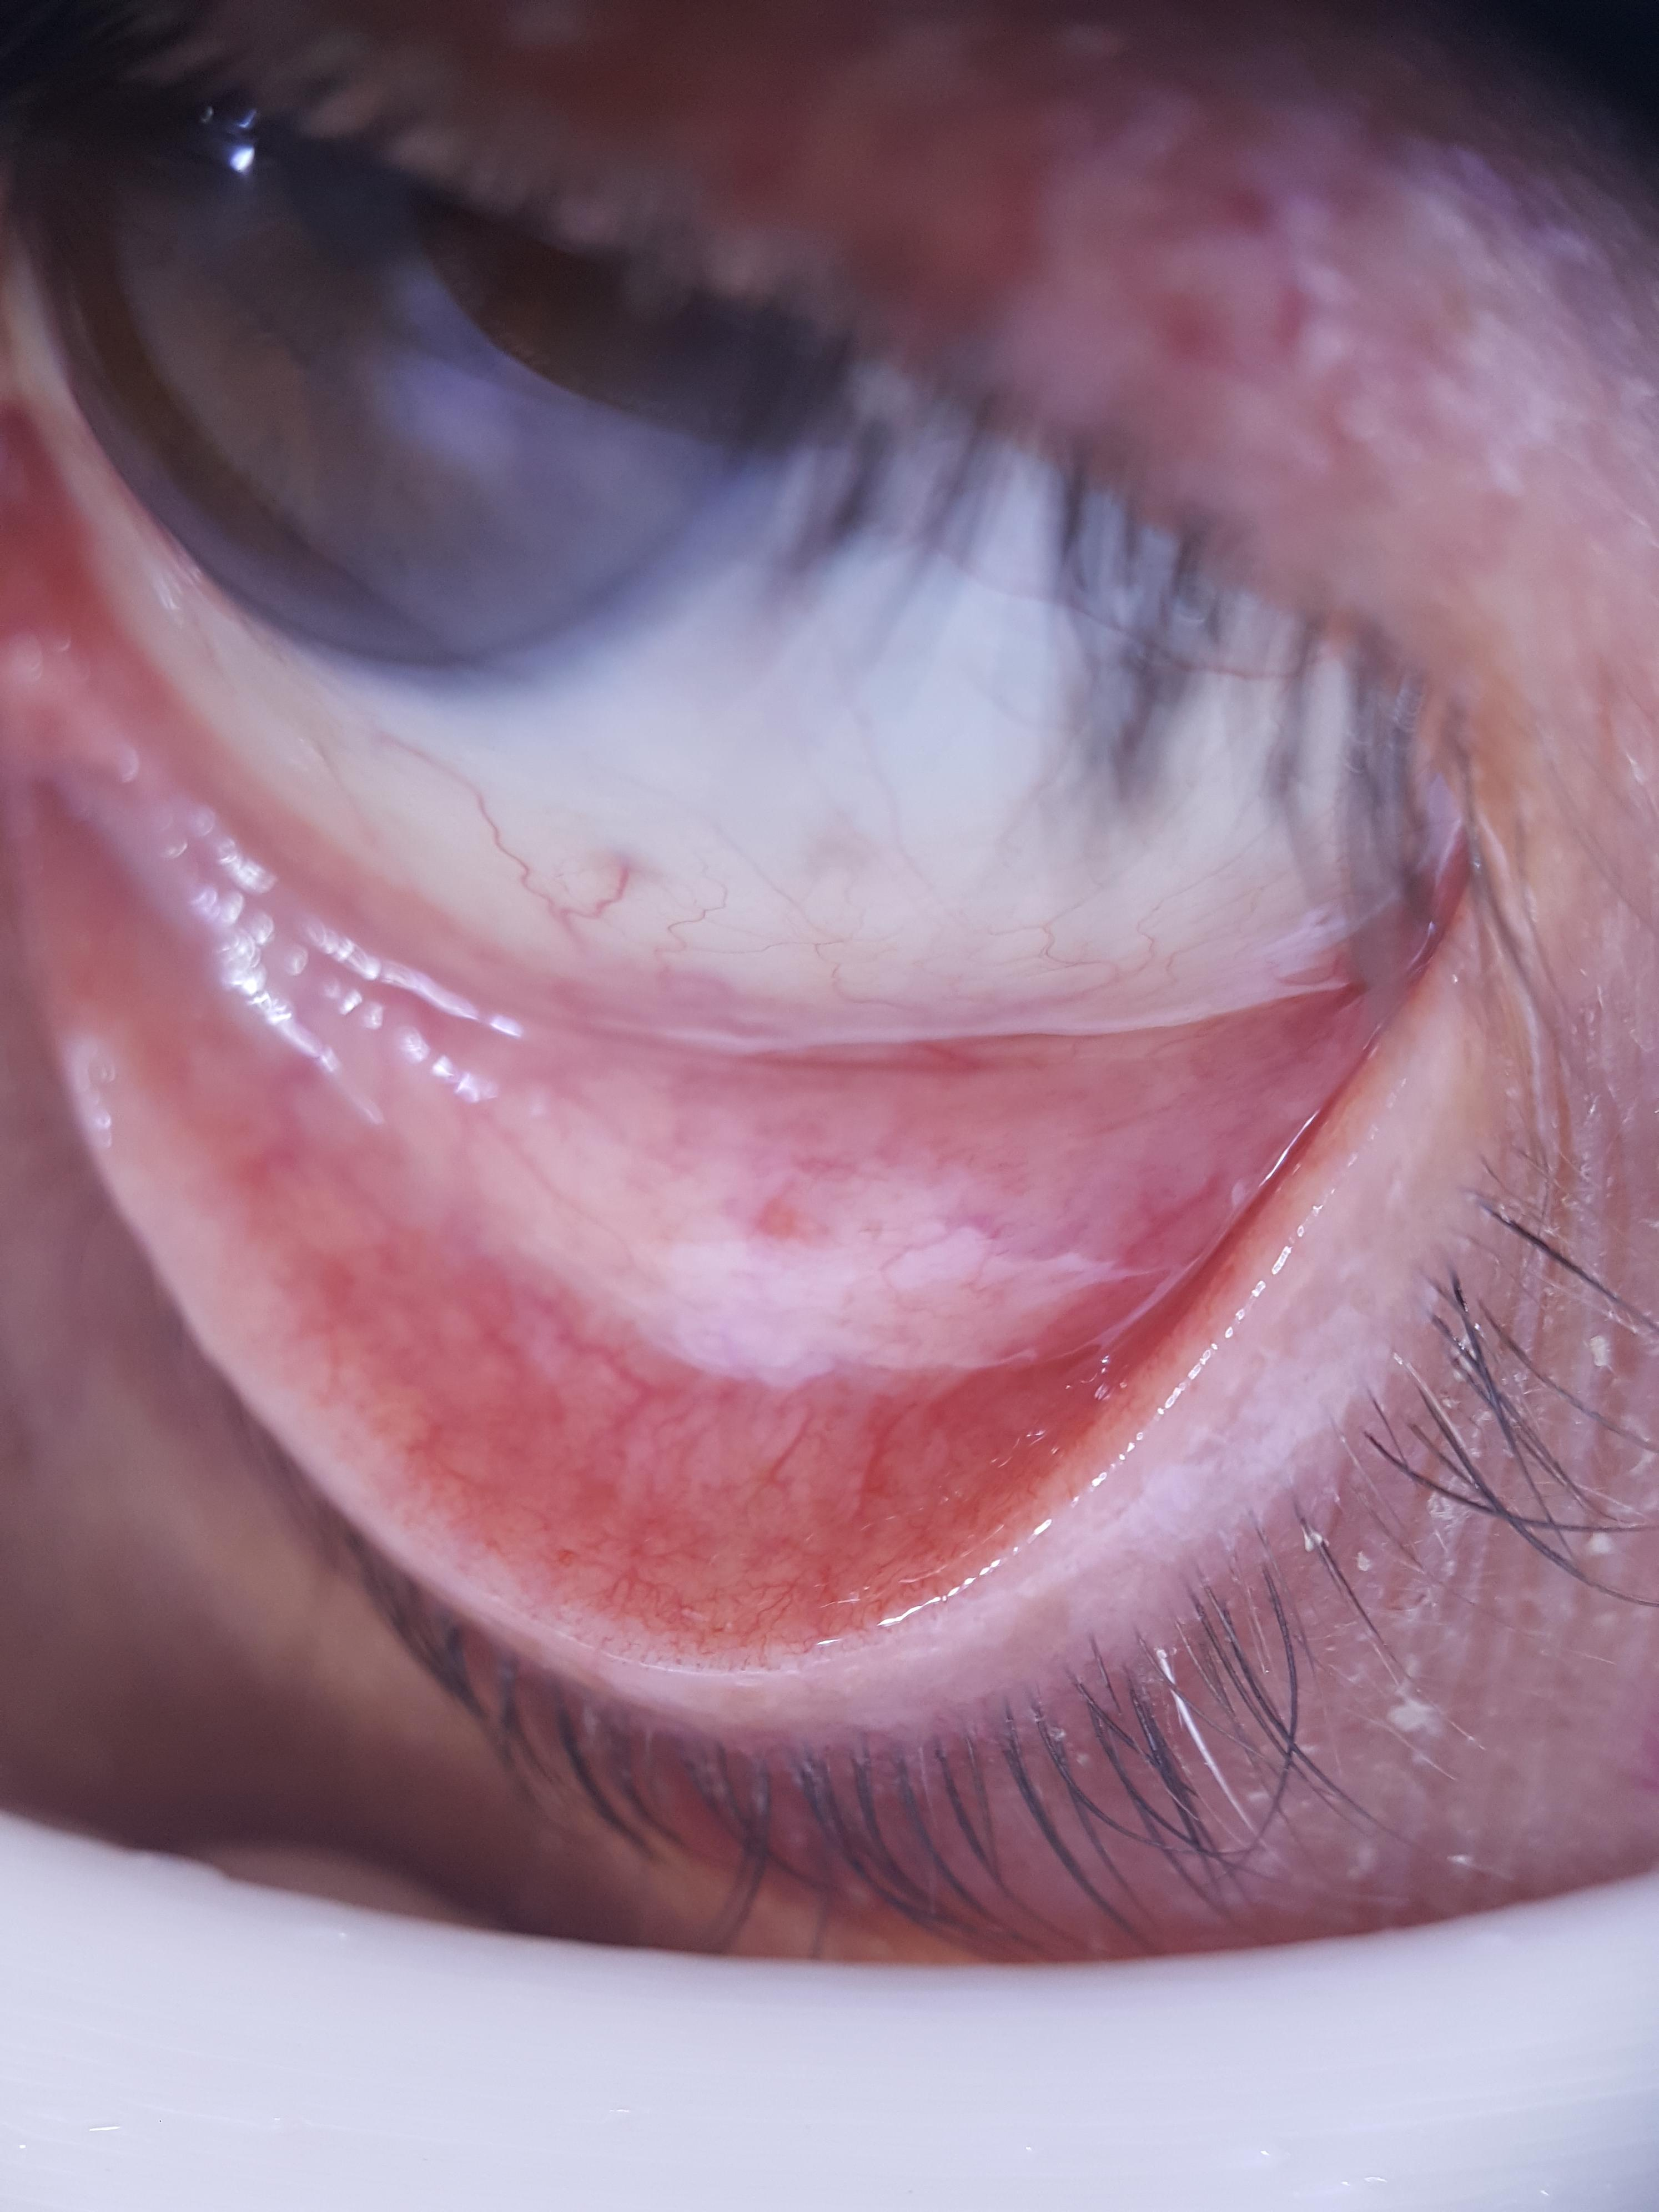forniceal: (5, 644, 1415, 1366)
forniceal_palpebral: (5, 644, 1427, 1644)
palpebral: (38, 777, 1349, 1622)
